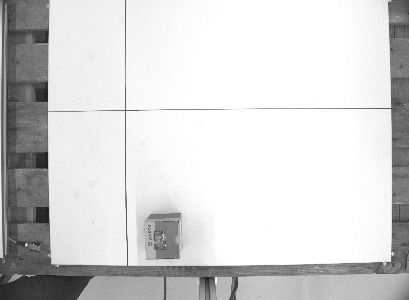b7: (141, 211, 184, 262)
